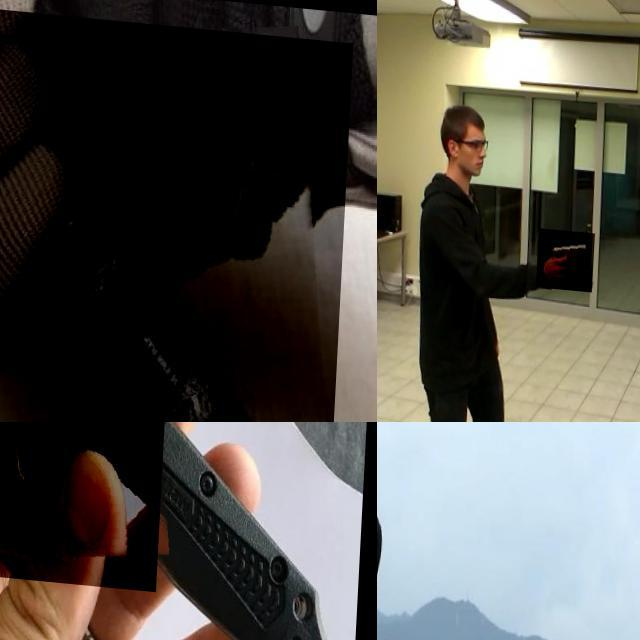-: (0, 0, 353, 422), (0, 422, 219, 640)
gun-knife-thesis - v11 Yolov5 augmented: (540, 224, 598, 288)
